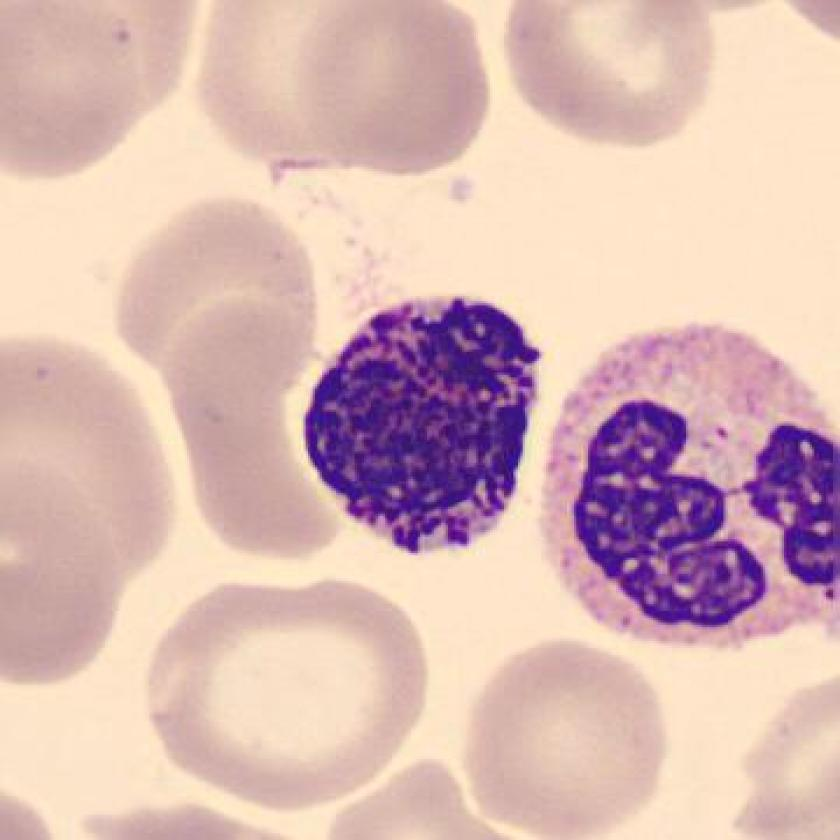basophil: (533, 300, 840, 647), (290, 288, 545, 559)
